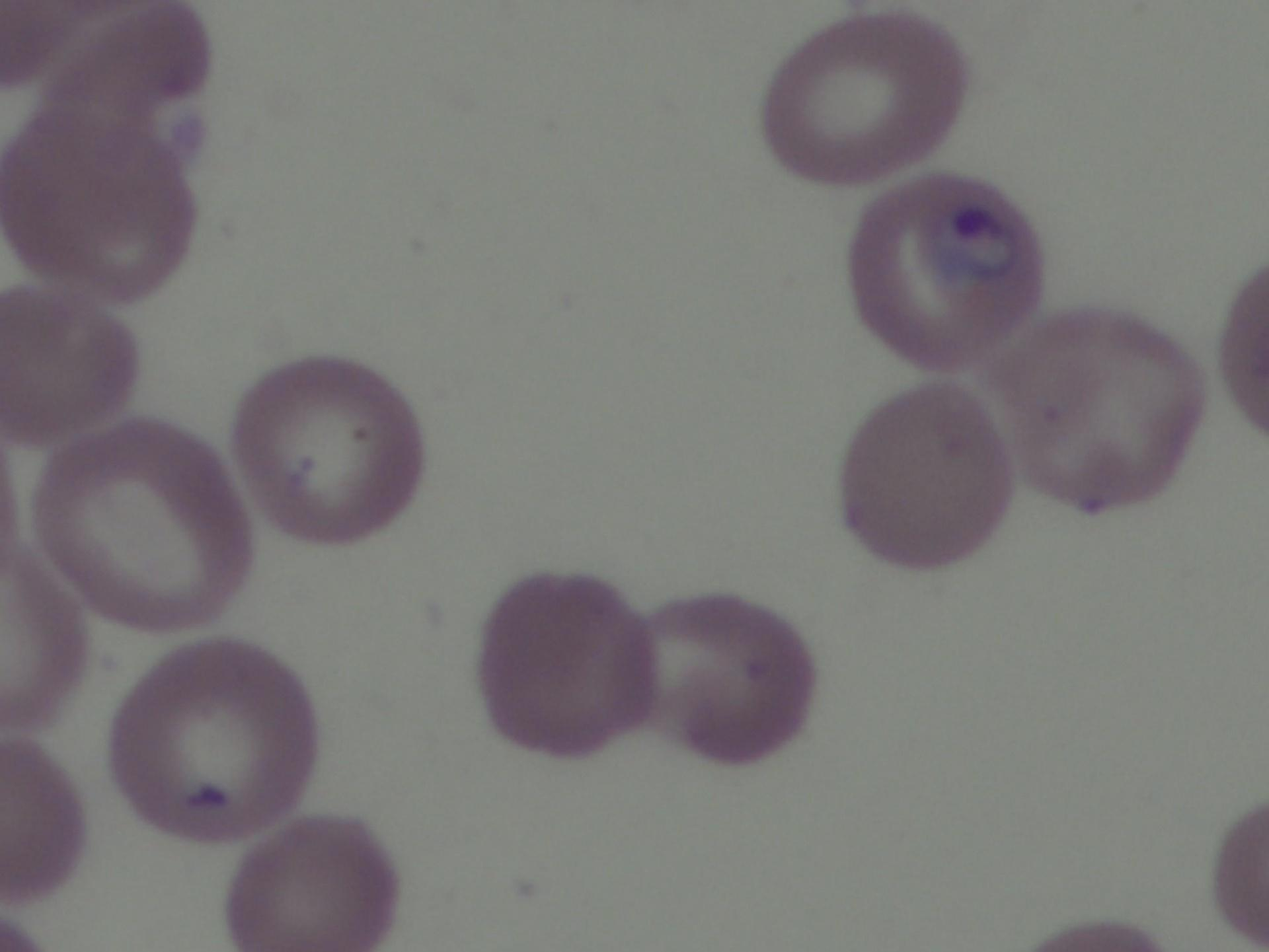Infected: (846, 175, 1050, 378)
Uninfected: (29, 424, 254, 635), (996, 298, 1212, 511), (115, 633, 319, 842), (769, 10, 971, 185), (234, 357, 423, 542), (476, 573, 662, 758), (0, 113, 188, 295), (842, 382, 1009, 576), (619, 602, 821, 761), (0, 289, 145, 453), (234, 813, 397, 952)
